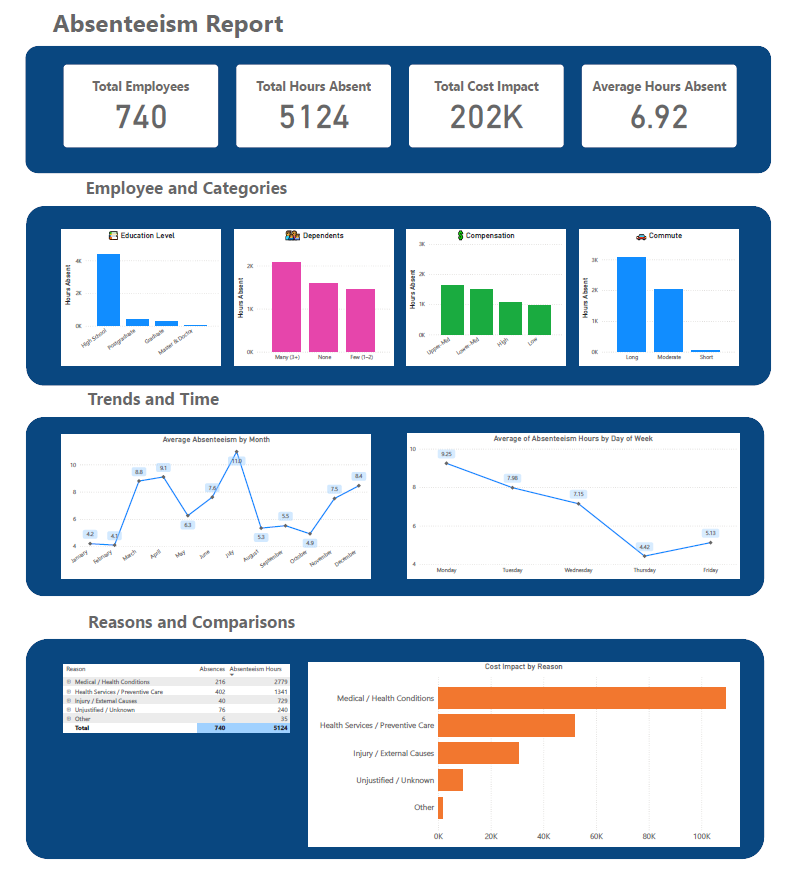

The dashboard page shown, as its layout file describes it:
{"tool":"powerbi","page":{"name":"HR Absenteeism Report","canvas":[1890,1990],"ordinal":0},"visuals":[{"type":"shape","box":[136,1414,1624,484],"z":0},{"type":"shape","box":[136,926,1624,394],"z":1000},{"type":"shape","box":[136.7,461.7,1638.3,395],"z":2000},{"type":"shape","box":[135,110,1640,280],"z":3000},{"type":"columnChart","title":"👨👩👦👦 Dependents","fields":{"Category":["Absenteeism_at_work.DependentsCategory"],"Y":["Sum(Absenteeism_at_work.Absenteeism time in hours)"]},"box":[595,513.3,350,300],"z":4000},{"type":"lineChart","title":"Average Absenteeism by Month ","fields":{"Y":["Avg(Absenteeism_at_work.Absenteeism time in hours)"],"Category":["Absenteeism_at_work.MonthName"]},"box":[215,965,680,315],"z":5000},{"type":"clusteredColumnChart","title":"📚 Education Level","fields":{"Category":["Absenteeism_at_work.EducationCategory"],"Y":["Sum(Absenteeism_at_work.Absenteeism time in hours)"]},"box":[215,512.5,350,300],"z":6000},{"type":"clusteredColumnChart","title":"💲 Compensation","fields":{"Y":["Sum(Absenteeism_at_work.Absenteeism time in hours)"],"Category":["compensation.PayCategory"]},"box":[973.3,513.3,350,300],"z":7000},{"type":"lineChart","title":"Average of Absenteeism Hours by Day of Week","fields":{"Y":["Avg(Absenteeism_at_work.Absenteeism time in hours)"],"Category":["Absenteeism_at_work.DayOfWeekName"]},"box":[975,962.5,730,317.5],"z":8000},{"type":"textbox","box":[241.7,390,536.7,71.7],"z":9000},{"type":"textbox","box":[268.3,1345,566.7,70],"z":10000},{"type":"textbox","box":[266.9,855.2,1413.4,71.4],"z":11000},{"type":"textbox","box":[180,16.7,845,93.3],"z":12000},{"type":"pivotTable","fields":{"Rows":["Reasons.ReasonCategory","Reasons.Reason"],"Values":["CountNonNull(Absenteeism_at_work.Reason for absence)","Sum(Absenteeism_at_work.Absenteeism time in hours)"]},"box":[215,1465,543.3,405],"z":13000},{"type":"clusteredBarChart","title":"Cost Impact by Reason","fields":{"Category":["Reasons.ReasonCategory"],"Y":["Sum(Absenteeism_at_work.CostImpact)"]},"box":[758.3,1465,946.7,405],"z":14000},{"type":"clusteredColumnChart","title":"🚗 Commute","fields":{"Category":["Absenteeism_at_work.CommuteCategory"],"Y":["Sum(Absenteeism_at_work.Absenteeism time in hours)"]},"box":[1353.3,513.3,350,300],"z":15000},{"type":"cardVisual","title":"Total Cost Impact","fields":{"Data":["Count(Absenteeism_at_work.ID)","Sum(Absenteeism_at_work.Absenteeism time in hours)1","Sum(Absenteeism_at_work.CostImpact)","Avg(Absenteeism_at_work.Absenteeism time in hours)"]},"box":[214,146,1490,192],"z":16000}]}

Visuals, with their boxes on the page's 1890x1990 design canvas (x1, y1, x2, y2). These are canvas units, not pixel positions in the 789x880 screenshot, which may show the page scaled, cropped or inside an application window:
shape: (left=136, top=1414, right=1760, bottom=1898)
shape: (left=136, top=926, right=1760, bottom=1320)
shape: (left=137, top=462, right=1775, bottom=857)
shape: (left=135, top=110, right=1775, bottom=390)
"👨👩👦👦 Dependents" columnChart: (left=595, top=513, right=945, bottom=813)
"Average Absenteeism by Month " lineChart: (left=215, top=965, right=895, bottom=1280)
"📚 Education Level" clusteredColumnChart: (left=215, top=512, right=565, bottom=812)
"💲 Compensation" clusteredColumnChart: (left=973, top=513, right=1323, bottom=813)
"Average of Absenteeism Hours by Day of Week" lineChart: (left=975, top=962, right=1705, bottom=1280)
textbox: (left=242, top=390, right=778, bottom=462)
textbox: (left=268, top=1345, right=835, bottom=1415)
textbox: (left=267, top=855, right=1680, bottom=927)
textbox: (left=180, top=17, right=1025, bottom=110)
pivotTable - Reasons.ReasonCategory x Reasons.Reason: (left=215, top=1465, right=758, bottom=1870)
"Cost Impact by Reason" clusteredBarChart: (left=758, top=1465, right=1705, bottom=1870)
"🚗 Commute" clusteredColumnChart: (left=1353, top=513, right=1703, bottom=813)
"Total Cost Impact" cardVisual: (left=214, top=146, right=1704, bottom=338)
